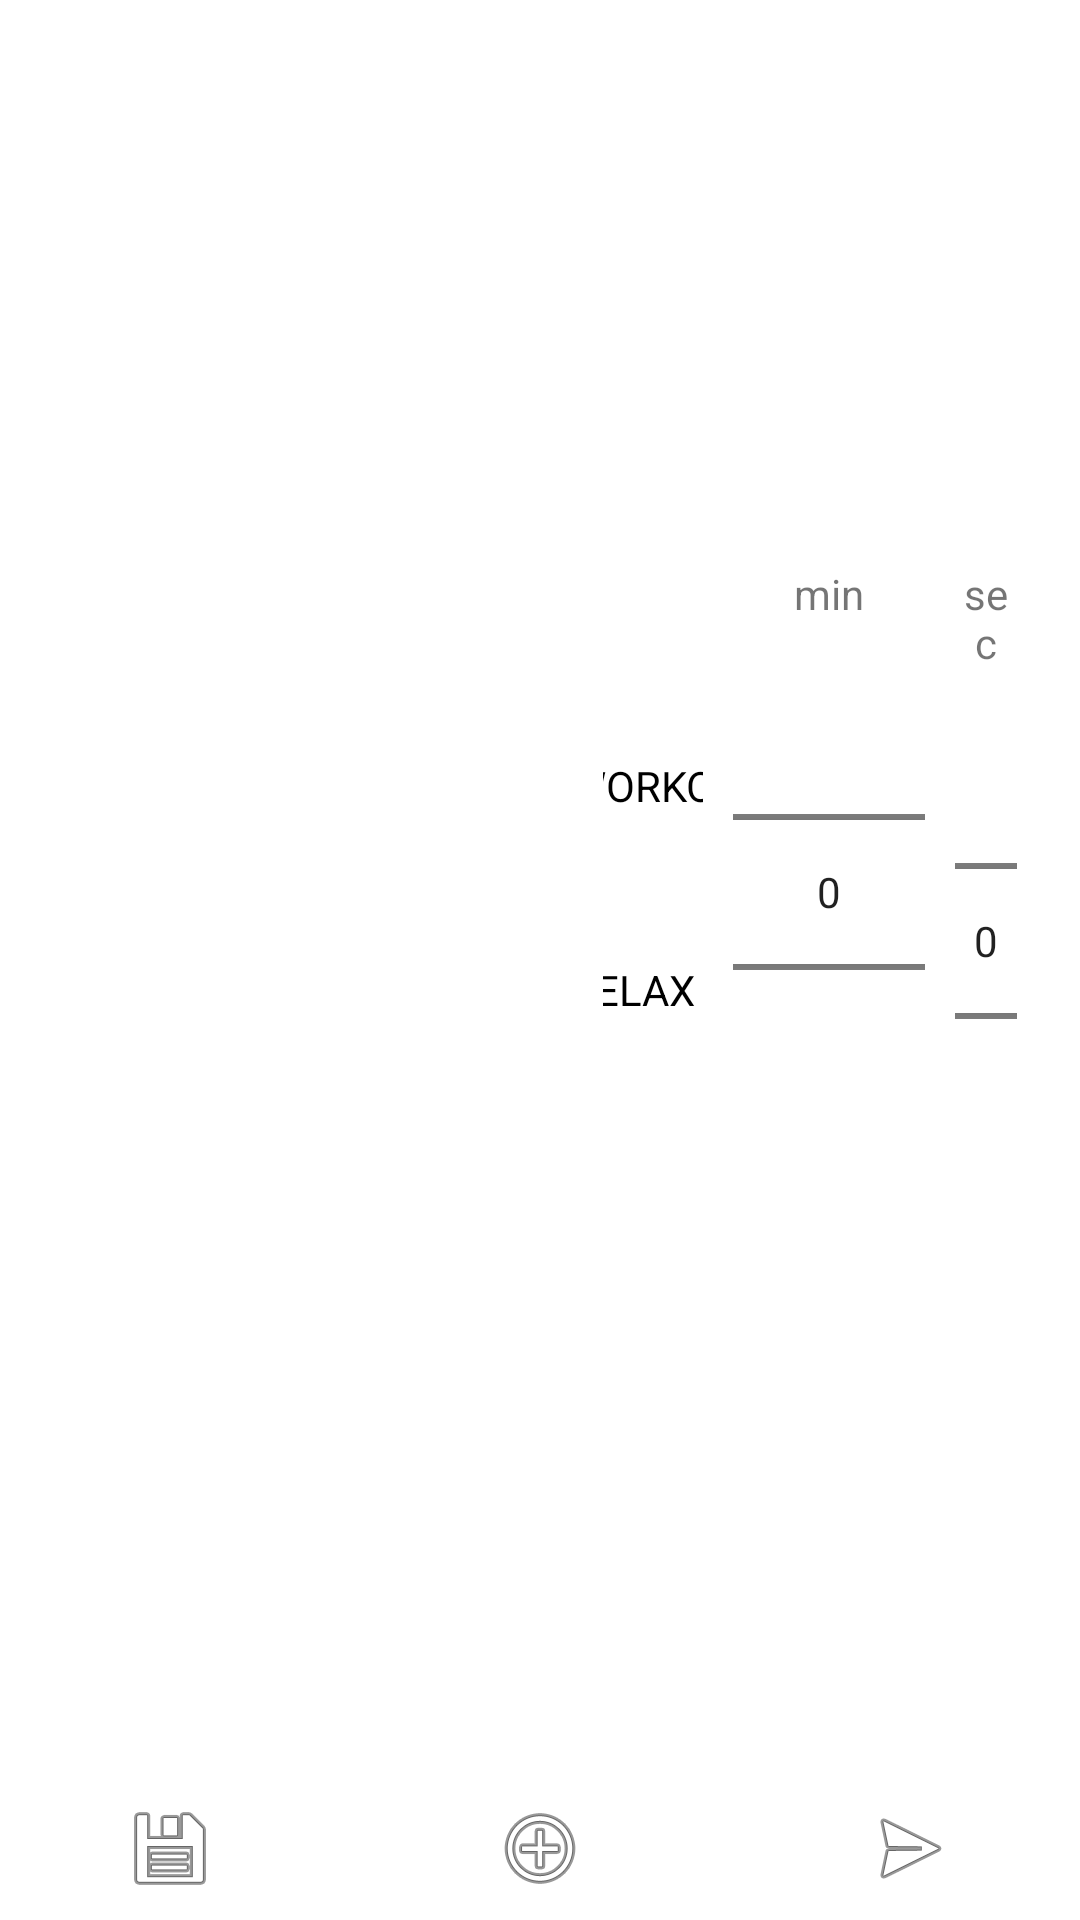

Where to tap for icons on this 1080px x 1920px app screen, as (x=x, y=y):
Add New Workout: (x=540, y=1848)
Save Your Workout: (x=170, y=1848)
Start: (x=911, y=1848)
